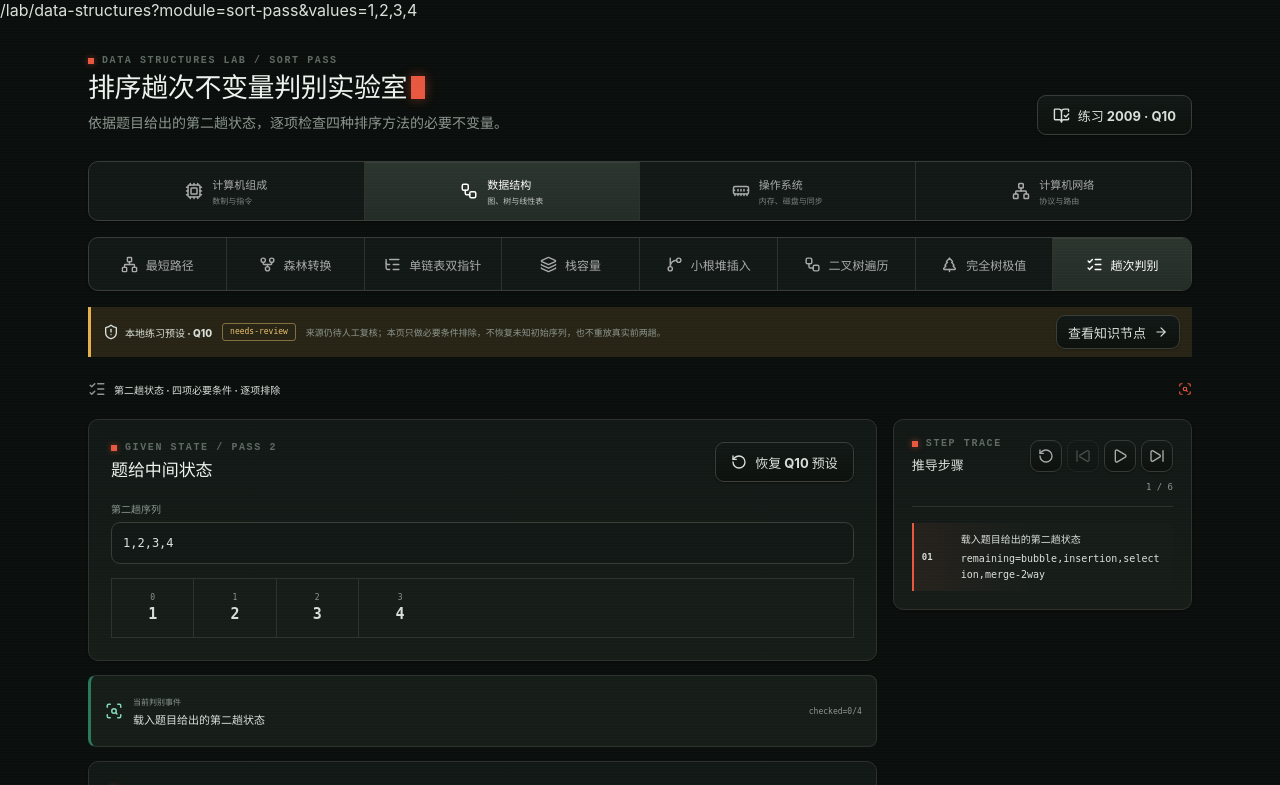
Test case: SortPassAnalysisLabPage › restores custom URL state, fails closed, and returns to the canonical preset
This screenshot has width=1280, height=785.
Replace the text in the field labelled "第二趟序列" with "1,,3" at (482, 544), box [111,522,854,564]
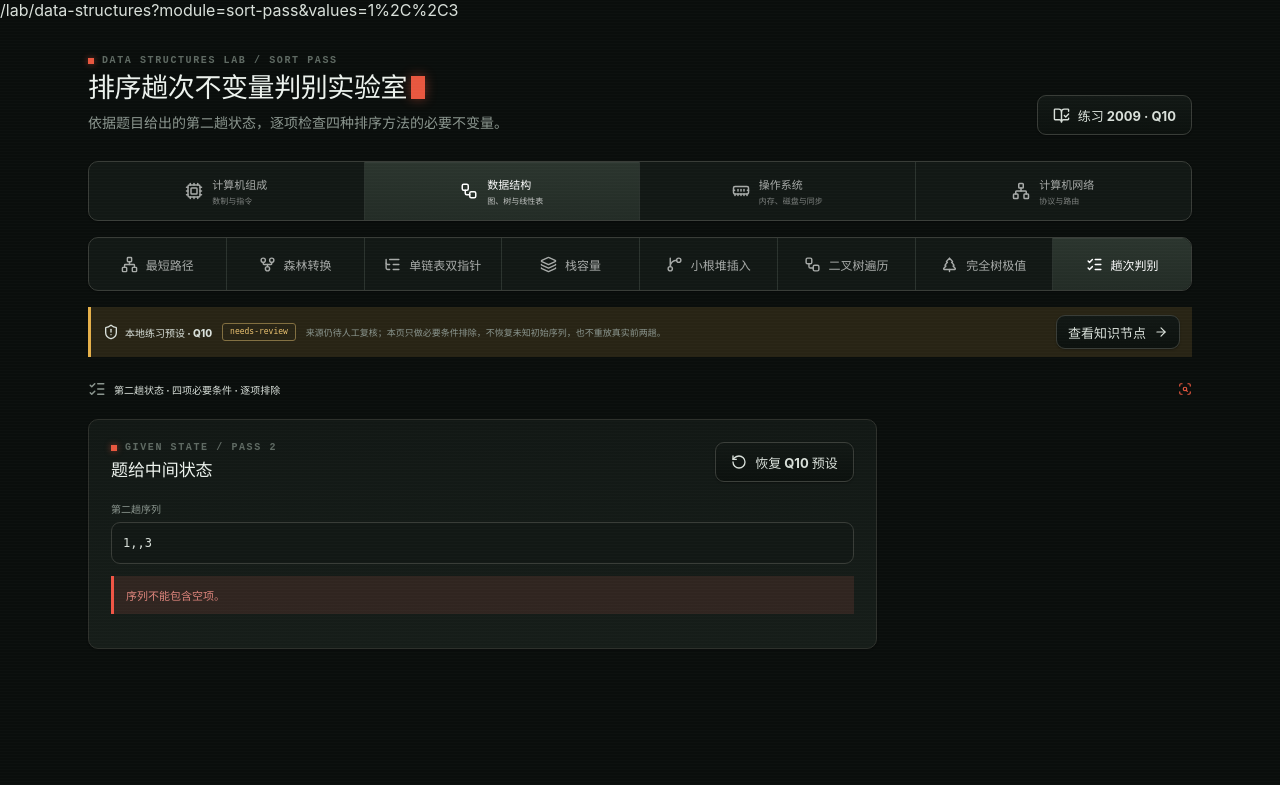
Expected: the message reads "序列不能包含空项。", [126,590,225,604]
Click the button "恢复 Q10 预设".
click(784, 462)  # box [715,442,854,482]
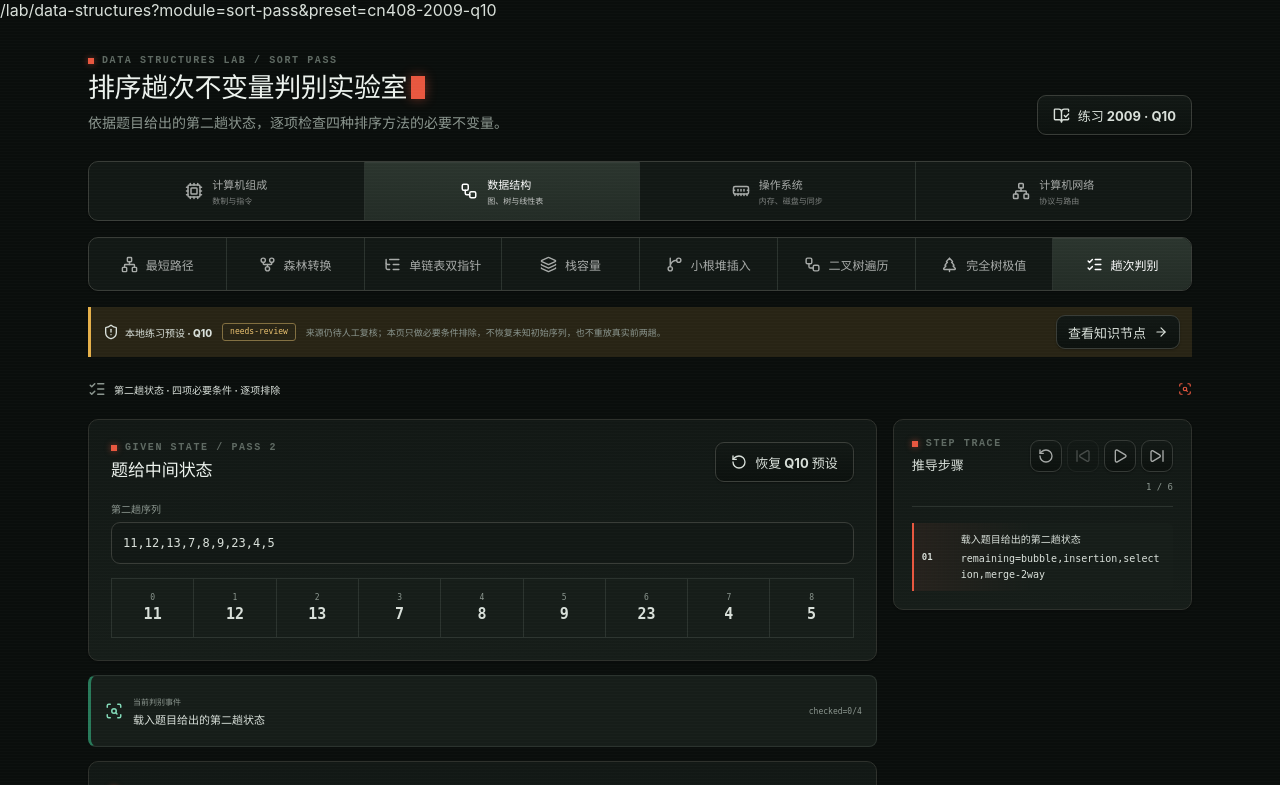
Expected: the text named "当前测试 URL" reads "/lab/data-structures?module=sort-pass&preset=cn408-2009-q10", [0,0,497,20]
Expected: the field labelled "第二趟序列" holds "11,12,13,7,8,9,23,4,5", [111,522,854,564]
